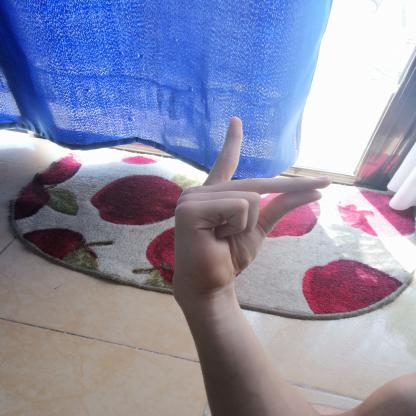TAA: (162, 108, 341, 305)
